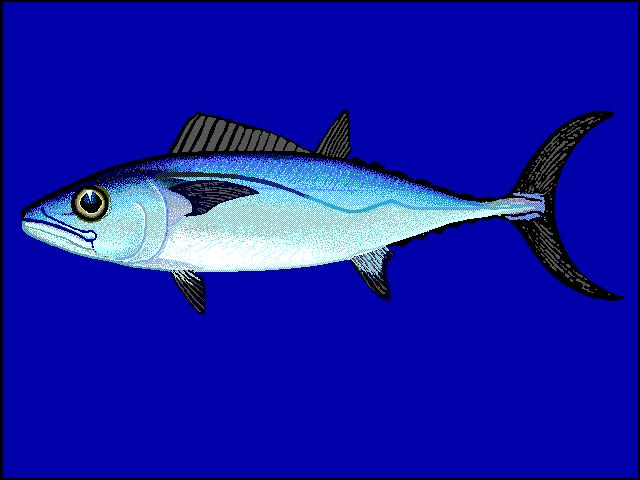fish: (18, 110, 627, 316)
